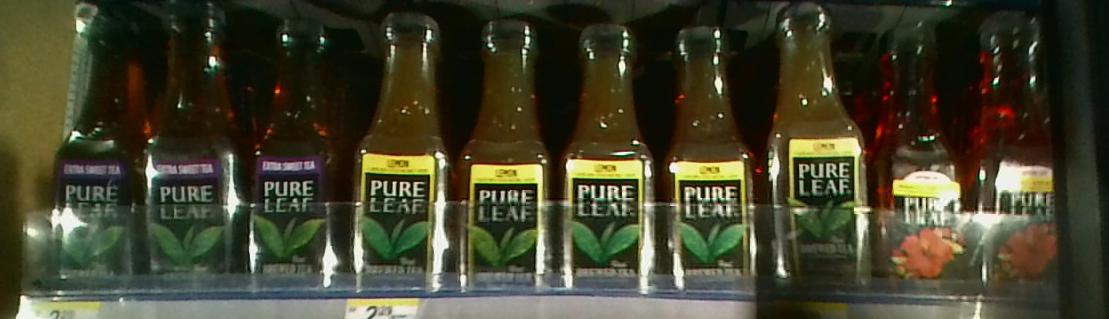bottle: (771, 4, 874, 297), (358, 8, 458, 302), (658, 20, 765, 293), (148, 1, 245, 285), (876, 11, 971, 300), (563, 13, 657, 300), (462, 16, 557, 291), (52, 3, 143, 287), (248, 18, 341, 294), (975, 4, 1059, 305)
